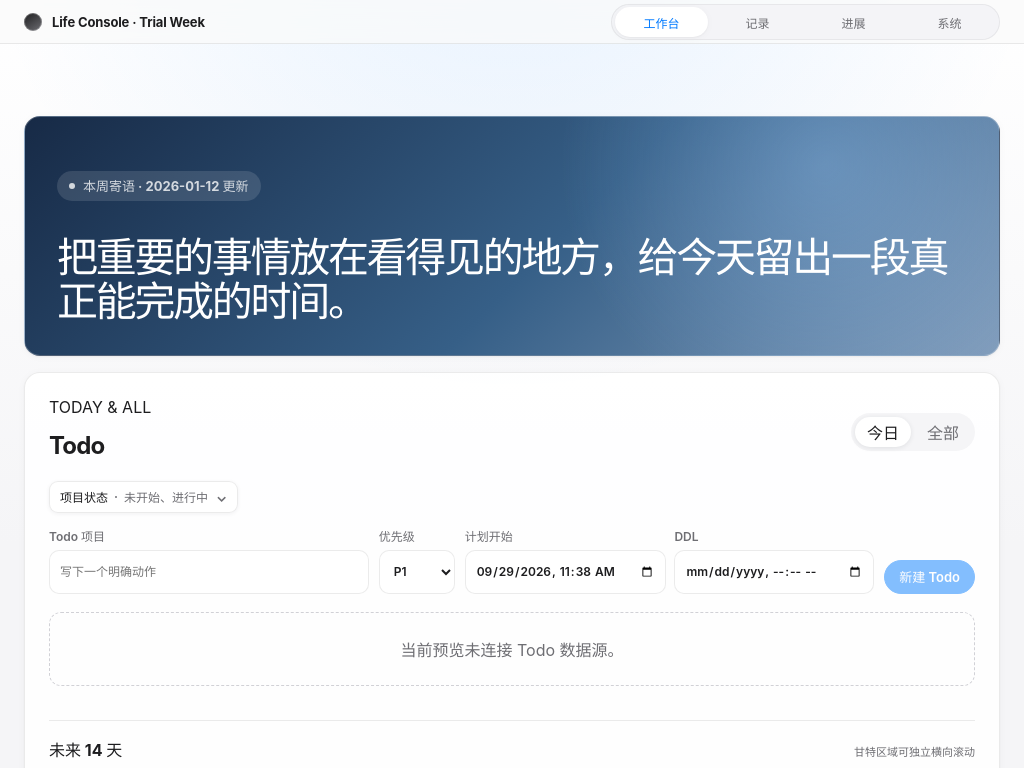
Life Console synthetic UI › renders missing trend days as separate markers
The width and height of the screenshot is (1024, 768).
Click the button "进展".
click(854, 22)  # box x1=807 y1=7 x2=900 y2=37
(page scrolled)
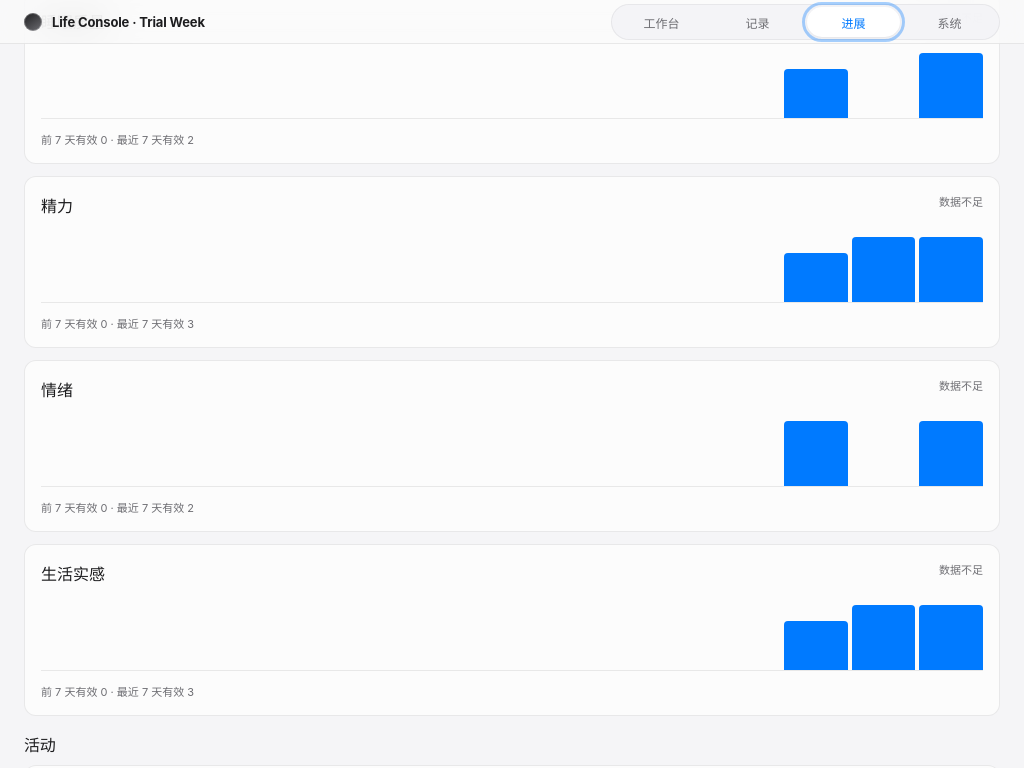
Check: the text "数据不足" in the row of "情绪" is shown, box x1=939 y1=379 x2=983 y2=393
